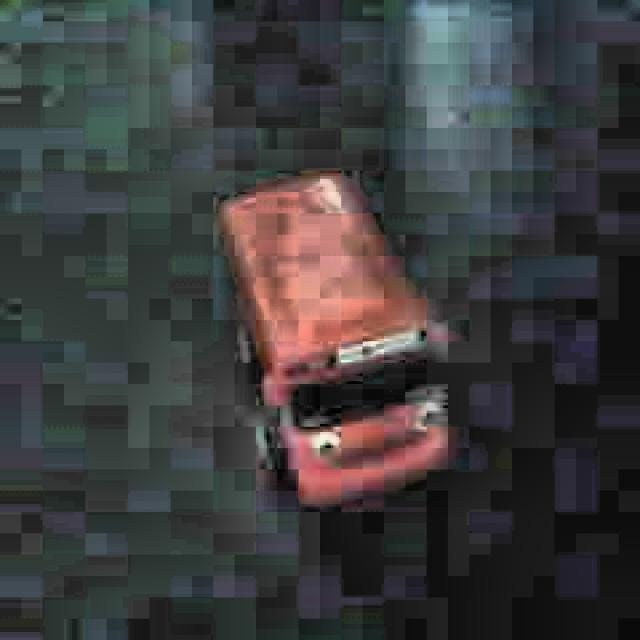bus: (206, 156, 452, 520)
